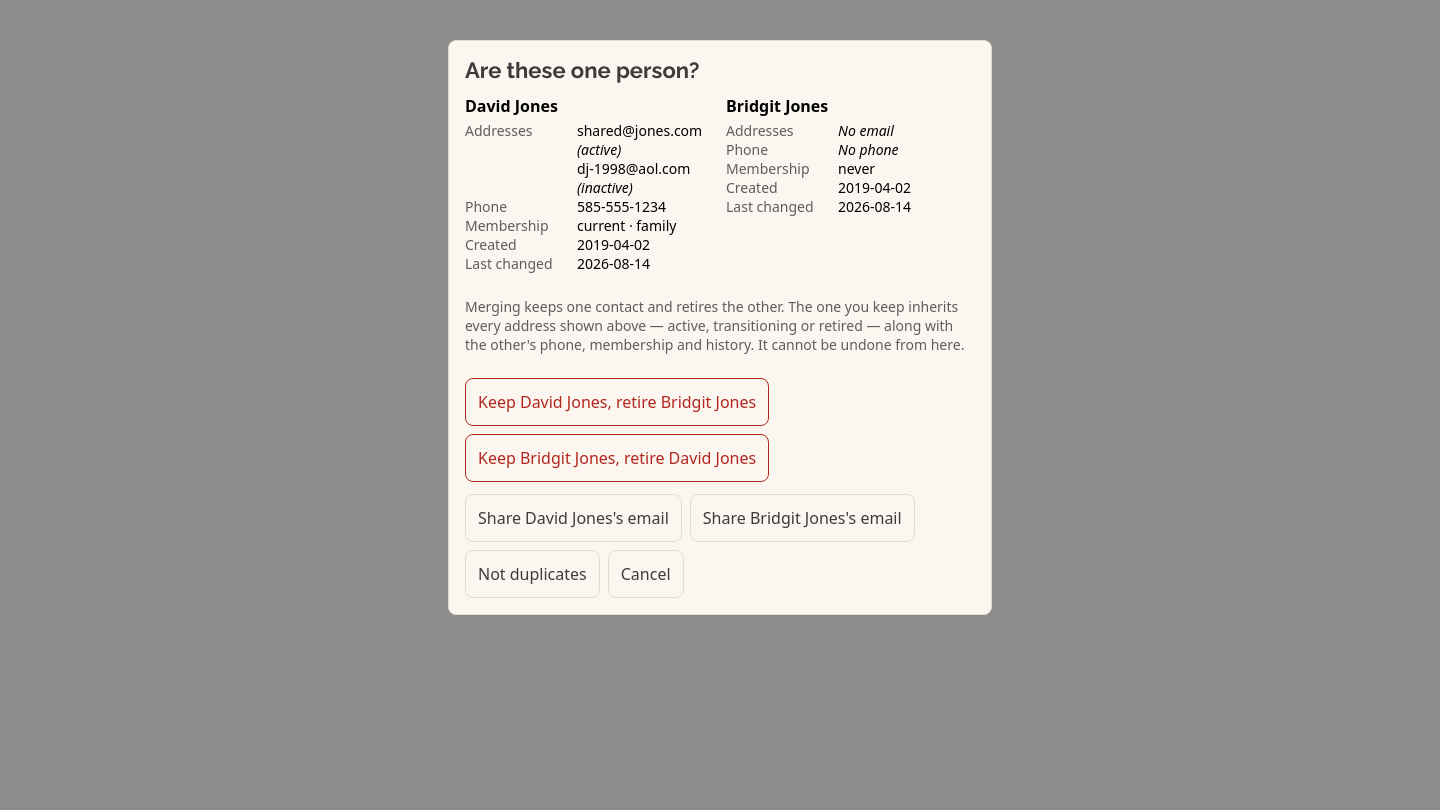
Test: the merge comparison › names the address the referring contact would adopt, and sends nothing yet (FR-015b)
Expected: the dialog is shown, left=448, top=40, right=992, bottom=615
Click the button "Share David Jones's email" at (573, 518), box left=465, top=494, right=682, bottom=542
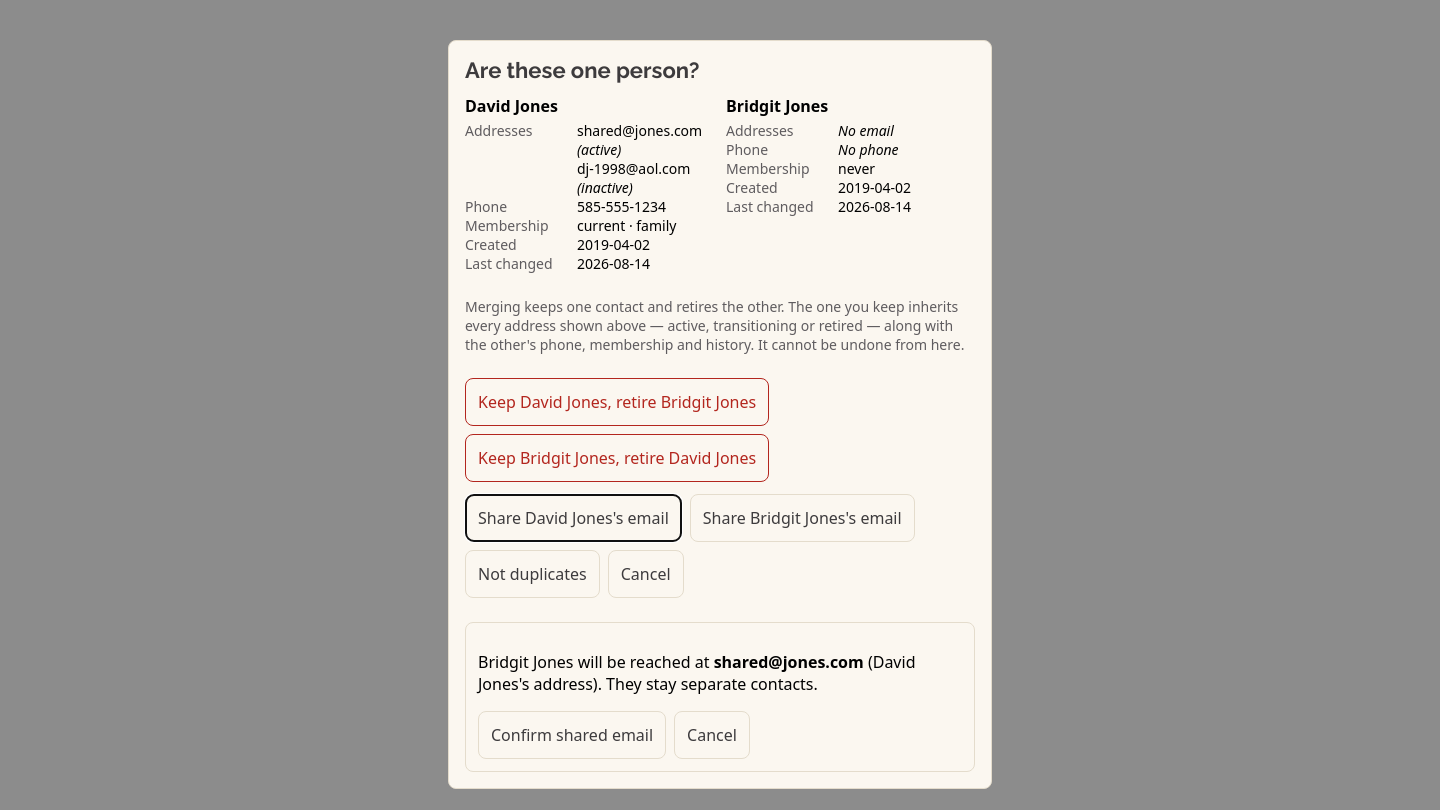
Result: the text "shared@jones.com" is shown at left=714, top=651, right=864, bottom=673
